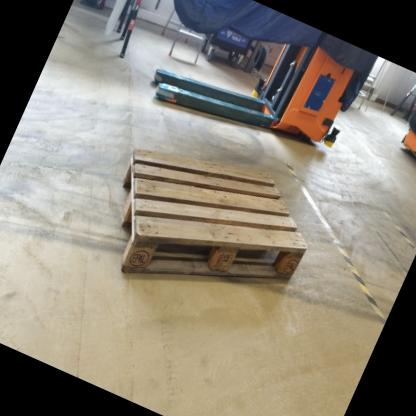BoxFace: (117, 144, 309, 286)
